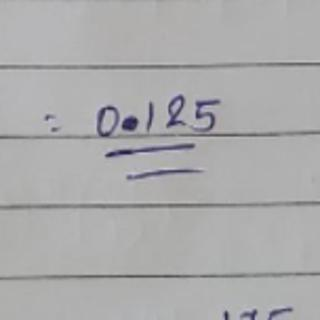.: (118, 110, 141, 135)
0: (93, 101, 120, 138)
1: (141, 99, 156, 134)
2: (162, 92, 189, 131)
5: (191, 95, 225, 135)
